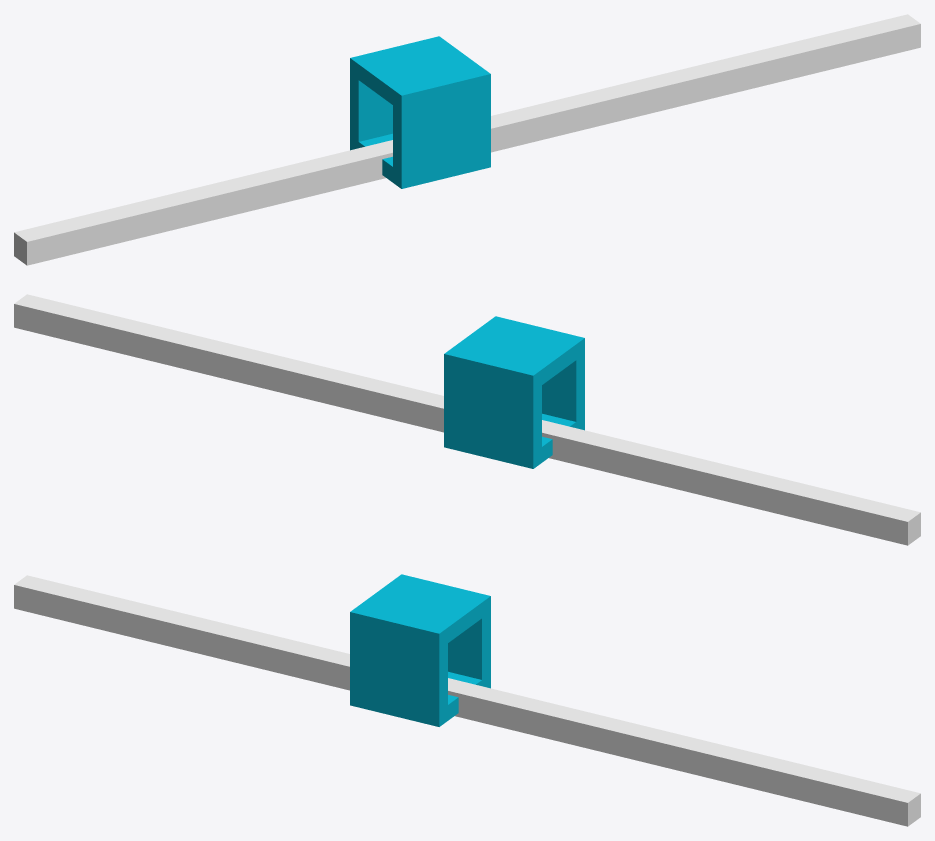
File: ArmBuildMachine (1).fbx
3 views of the same model, one above another, from view 1: azimuth 30°, elevation 25°; view 2: azimuth 150°, elevation 25°; view 3: azimuth 330°, elevation 25° (orthographic).
Parts seen in each view (by area): view 1: ArmMachineWay.002, ArmMachineCarry; view 2: ArmMachineWay.002, ArmMachineCarry; view 3: ArmMachineWay.002, ArmMachineCarry.
Boxes of the visible parts, x1,y1,x2,y2 form: ArmMachineWay.002: (14, 14, 920, 265); ArmMachineCarry: (350, 36, 490, 188); ArmMachineWay.002: (14, 294, 920, 545); ArmMachineCarry: (444, 316, 584, 468); ArmMachineWay.002: (14, 575, 920, 826); ArmMachineCarry: (350, 574, 490, 726).
Bounding box in the file's own units: 476 × 47.52 × 49.53.
